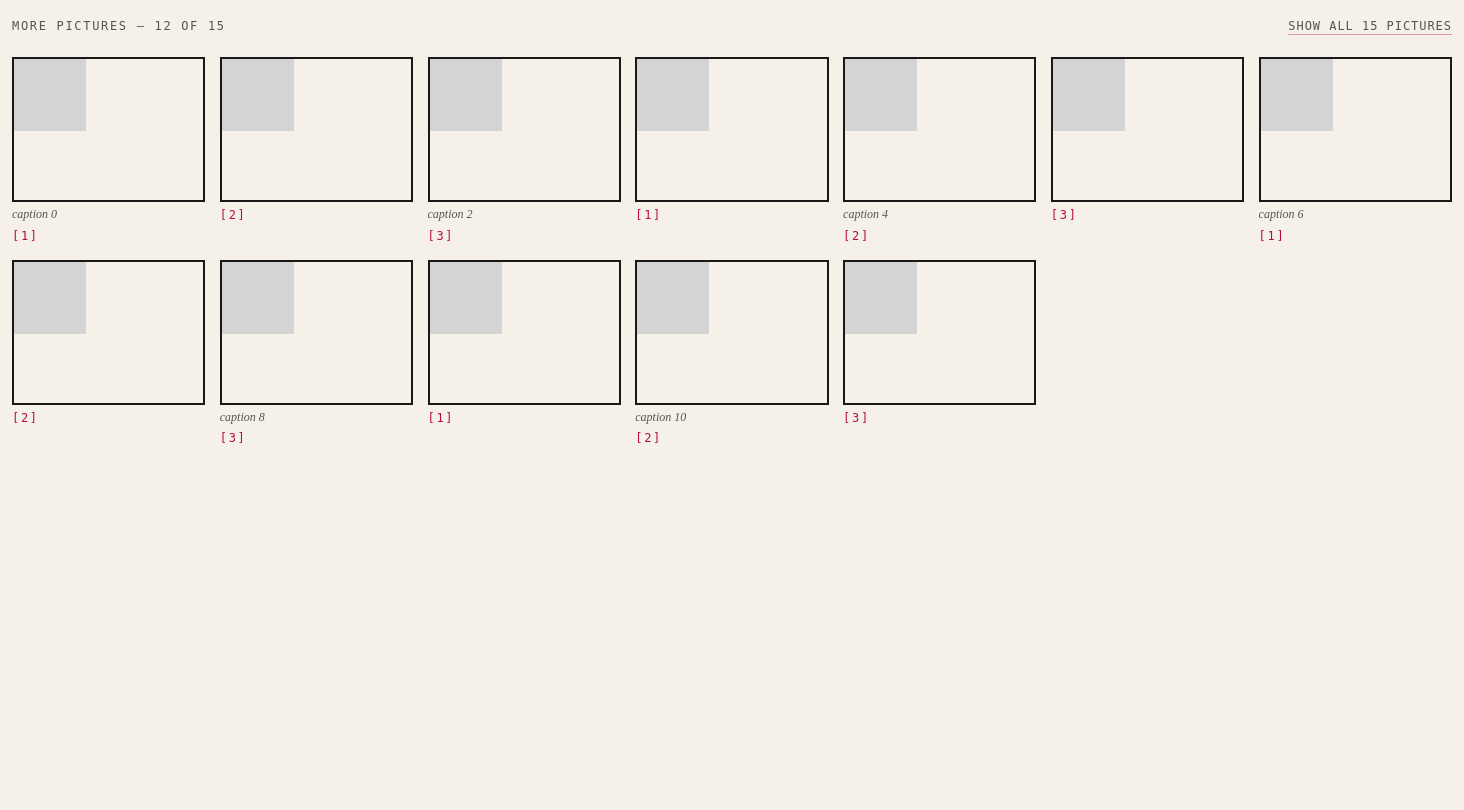
PhotosPanel › reveals every remaining tile and offers the way back
The image size is (1464, 810).
Step 1. Click the button "Show all 15 pictures" → click(1366, 26), box [1280,4,1452,48]
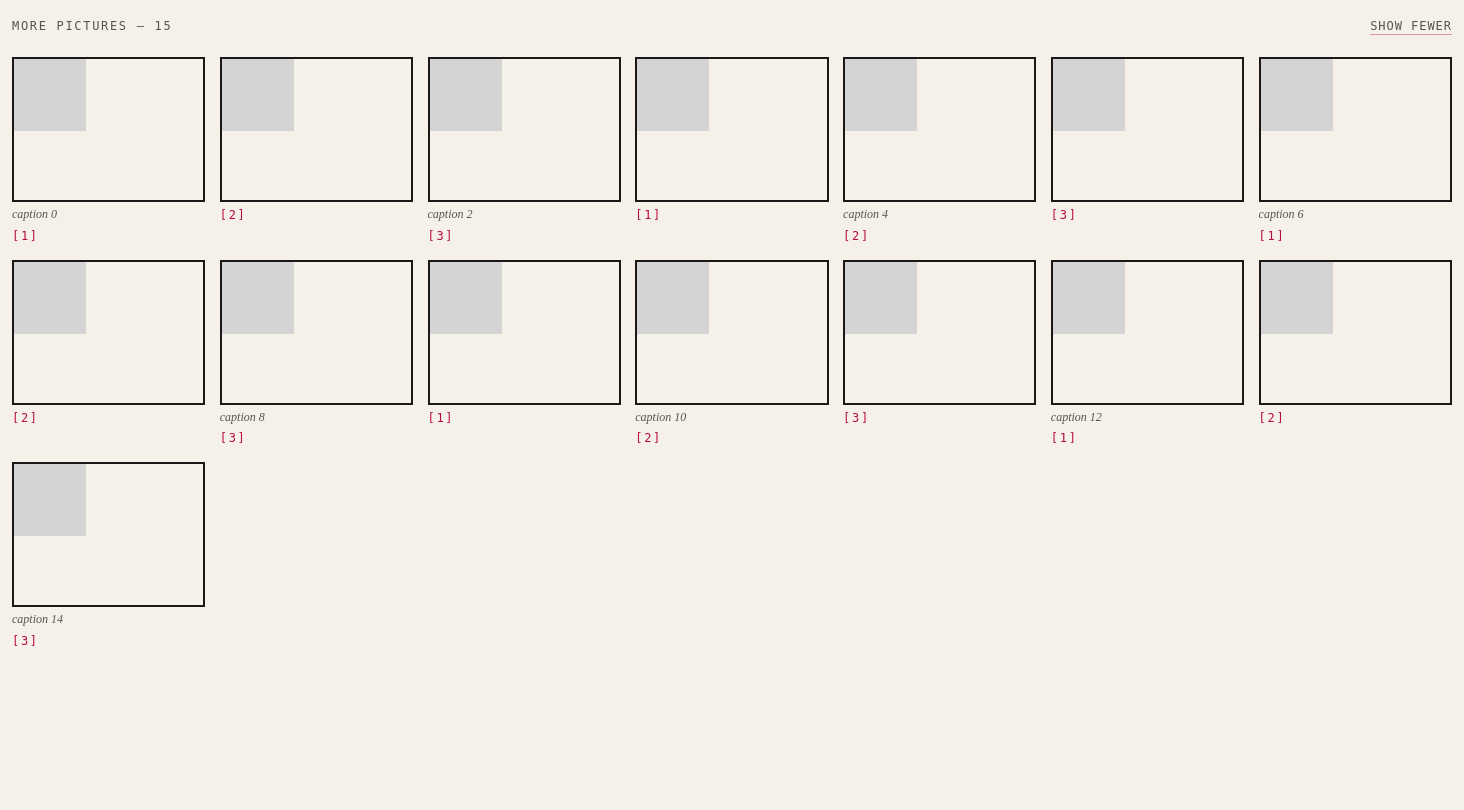
Result: the number of list items with class "ask-photos-tile" is 15
Result: the button "Show fewer" is expanded
Step 2. Click the button "Show fewer" → click(1407, 26), box [1362,4,1452,48]
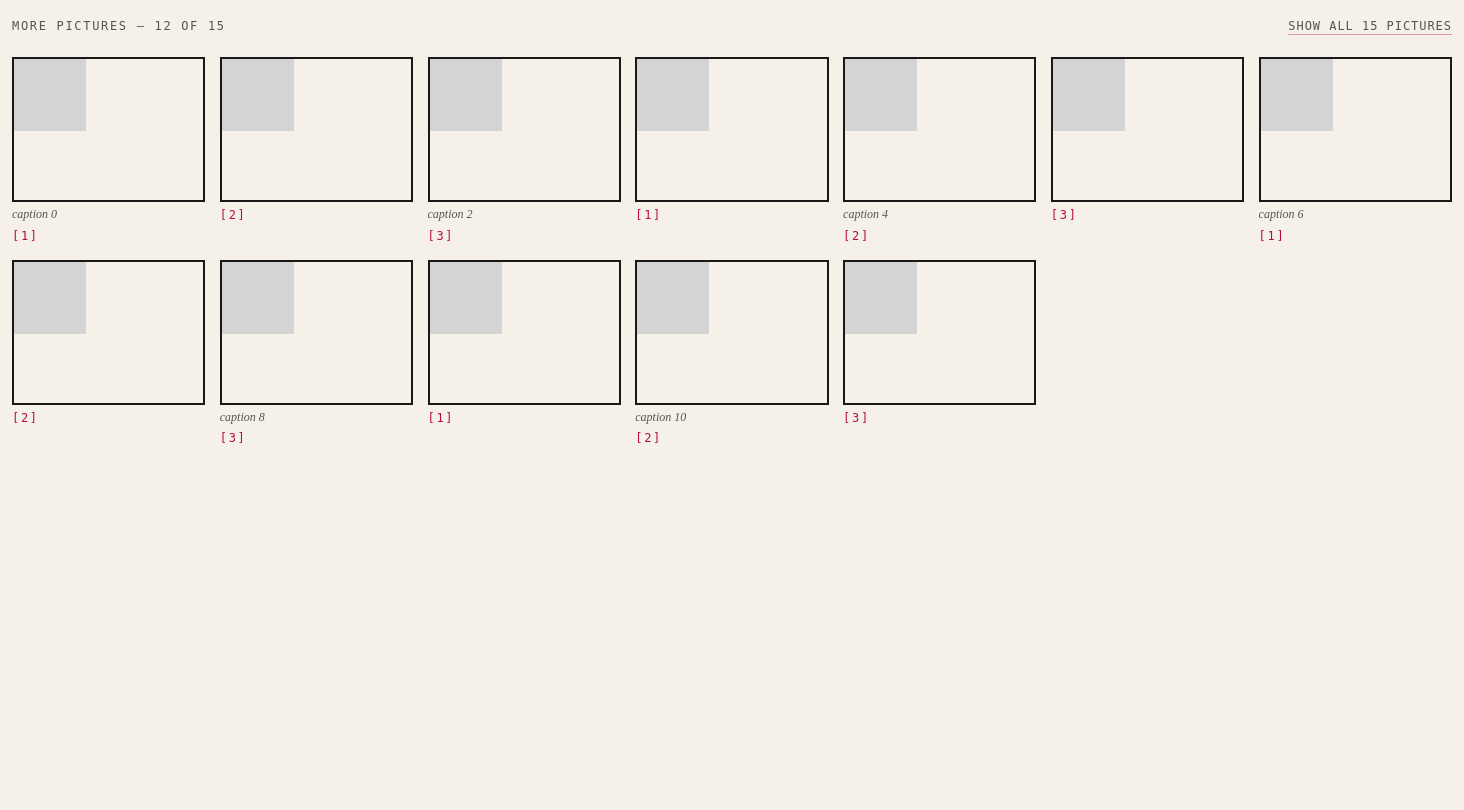
Result: the number of list items with class "ask-photos-tile" is 12
Result: the button "Show all 15 pictures" is collapsed at [1280,4,1452,48]
